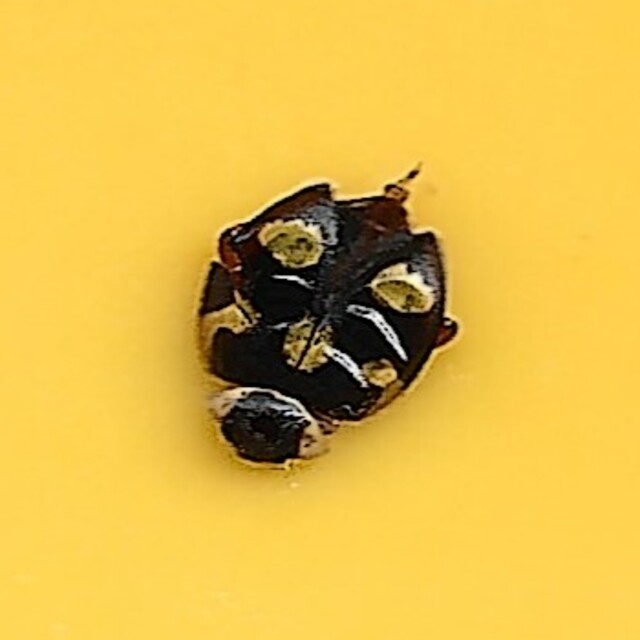Coleoptera: (183, 162, 457, 478)
